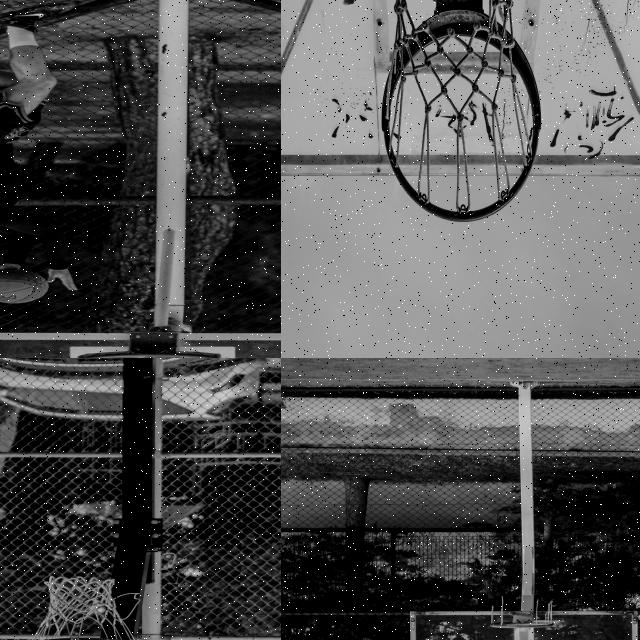backboard: (281, 0, 640, 182), (410, 612, 637, 640)
